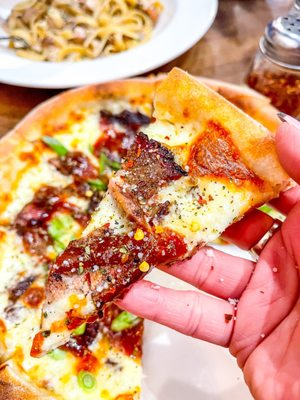burger: (246, 0, 300, 121)
curry: (1, 0, 300, 369)
sandwich: (0, 66, 300, 398)
